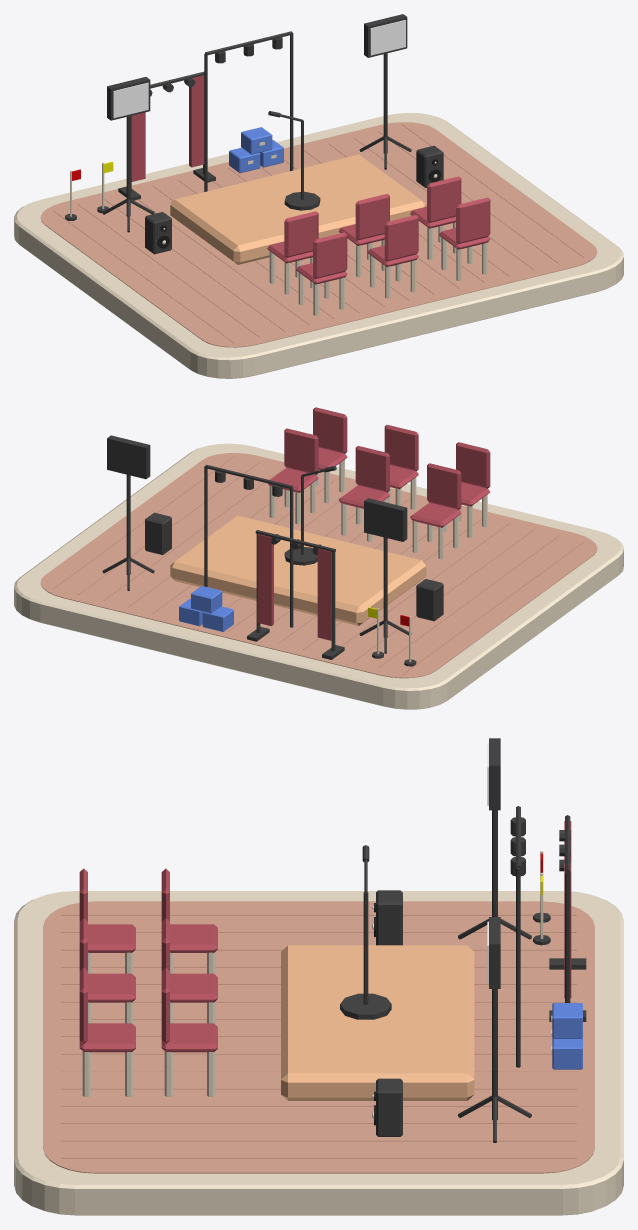
3 renders of one model, top to bottom at view 1: azimuth 30°, elevation 25°; view 2: azimuth 150°, elevation 25°; view 3: azimuth 270°, elevation 25°, orthographic. The views are drawn at different scales.
Parts seen in each view (by area): view 1: COM-02 Floor Surface, COM-01 Rounded Base Direct, Low stage, Backrest.004, Backrest.003, Backrest.005, Backrest.001, Backrest, Backrest.002, Diffuser.001, Diffuser, Enclosure (+12 smaller); view 2: COM-02 Floor Surface, COM-01 Rounded Base Direct, Low stage, Light panel, Light panel.001, Backrest, Backrest.001, Backrest.002, Backrest.003, Backrest.005, Backrest.004, Enclosure (+19 smaller); view 3: COM-02 Floor Surface, COM-01 Rounded Base Direct, Low stage, Enclosure.001, Enclosure, Seat.005, Seat.002, Seat.001, Seat.004, Seat, Seat.003, Stacked case.002 (+14 smaller).
Boxes of the visible parts, <box> form: COM-02 Floor Surface: <box>40,122,597,347</box>; COM-01 Rounded Base Direct: <box>14,113,623,378</box>; Low stage: <box>170,154,426,264</box>; Backrest.004: <box>384,215,418,261</box>; Backrest.003: <box>313,232,347,278</box>; Backrest.005: <box>456,197,490,243</box>; Backrest.001: <box>355,194,389,240</box>; Backrest: <box>284,211,318,257</box>; Backrest.002: <box>427,176,461,222</box>; Diffuser.001: <box>370,20,405,55</box>; Diffuser: <box>113,82,148,118</box>; Enclosure: <box>145,212,171,254</box>; COM-02 Floor Surface: <box>40,453,597,678</box>; COM-01 Rounded Base Direct: <box>14,443,623,709</box>; Low stage: <box>170,515,426,625</box>; Light panel: <box>364,498,407,541</box>; Light panel.001: <box>107,435,150,479</box>; Backrest: <box>427,463,461,509</box>; Backrest.001: <box>355,446,389,492</box>; Backrest.002: <box>284,428,318,474</box>; Backrest.003: <box>456,442,490,488</box>; Backrest.005: <box>313,407,347,453</box>; Backrest.004: <box>384,424,418,471</box>; Enclosure: <box>416,579,443,621</box>; COM-02 Floor Surface: <box>43,901,594,1173</box>; COM-01 Rounded Base Direct: <box>14,891,623,1215</box>; Low stage: <box>281,945,474,1100</box>; Enclosure.001: <box>376,1078,402,1136</box>; Enclosure: <box>376,890,402,945</box>; Seat.005: <box>79,1023,135,1052</box>; Seat.002: <box>161,1023,217,1052</box>; Seat.001: <box>170,973,217,1002</box>; Seat.004: <box>88,973,135,1002</box>; Seat: <box>170,924,217,952</box>; Seat.003: <box>88,924,135,952</box>; Stacked case.002: <box>552,1003,582,1038</box>.
Size of the model in its own units: 6 by 2.19 by 5.2.
1 material, 1 textured.
